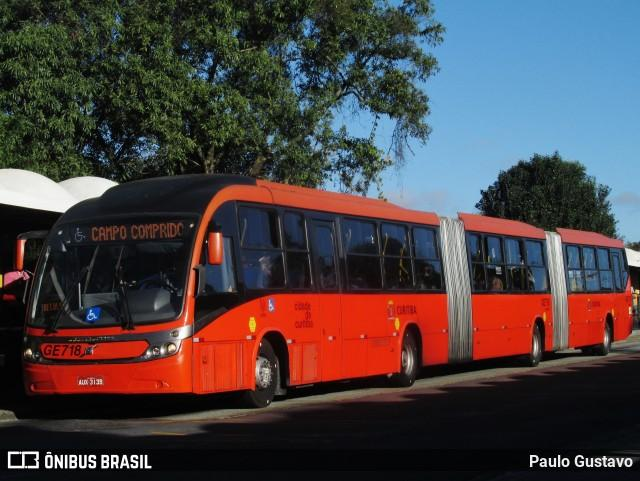CAMPO COMPRIDO: (88, 218, 187, 245)
